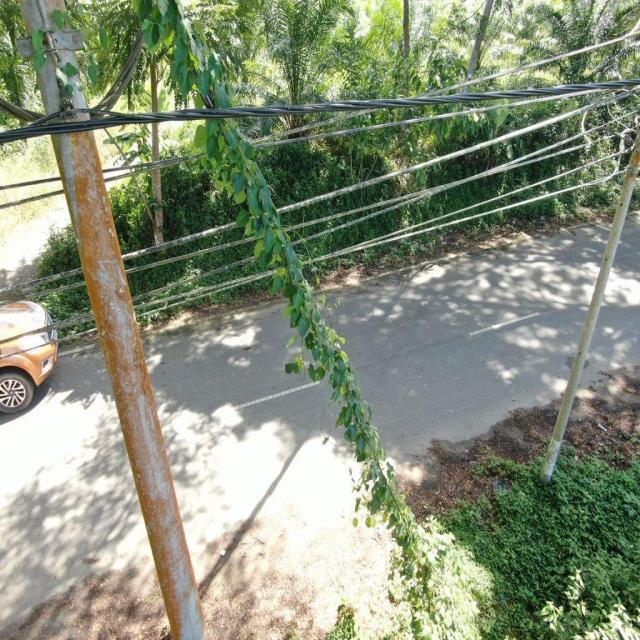critical vegetation: (159, 30, 455, 612)
